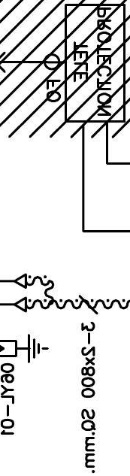tele_protection: (63, 2, 128, 124)
